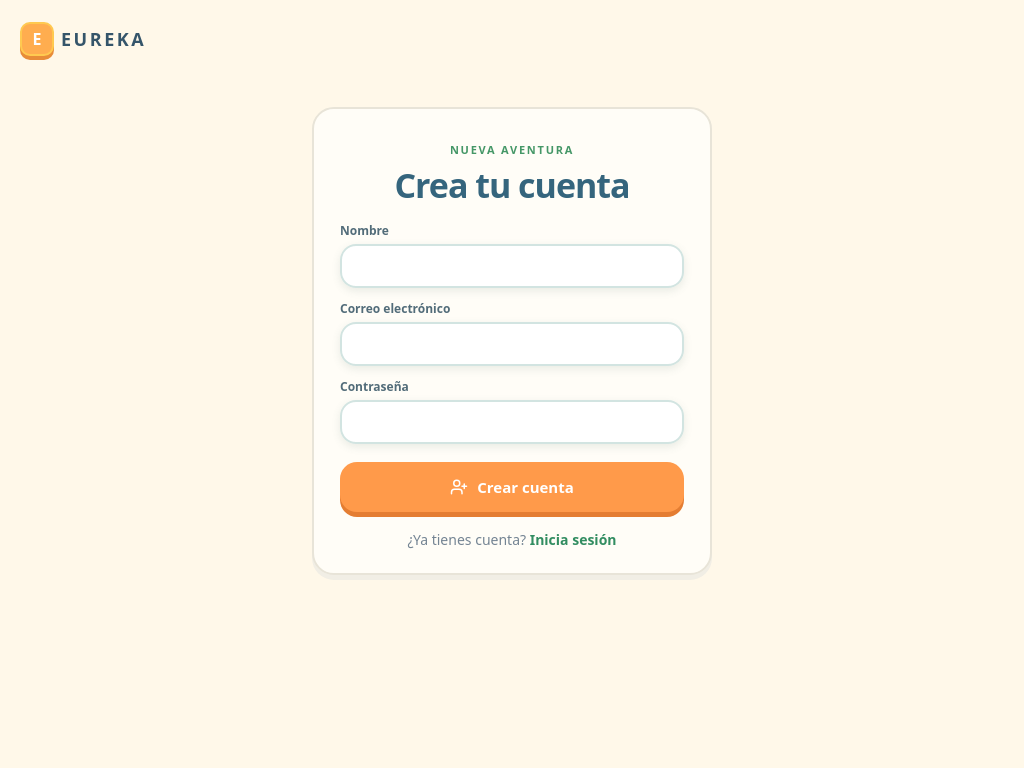
Test case: registro › crea la cuenta, inicia sesión, guarda el token y entra al inicio
In the field labelled "Nombre": (512, 266) [340,244,684,288], type "Ana"
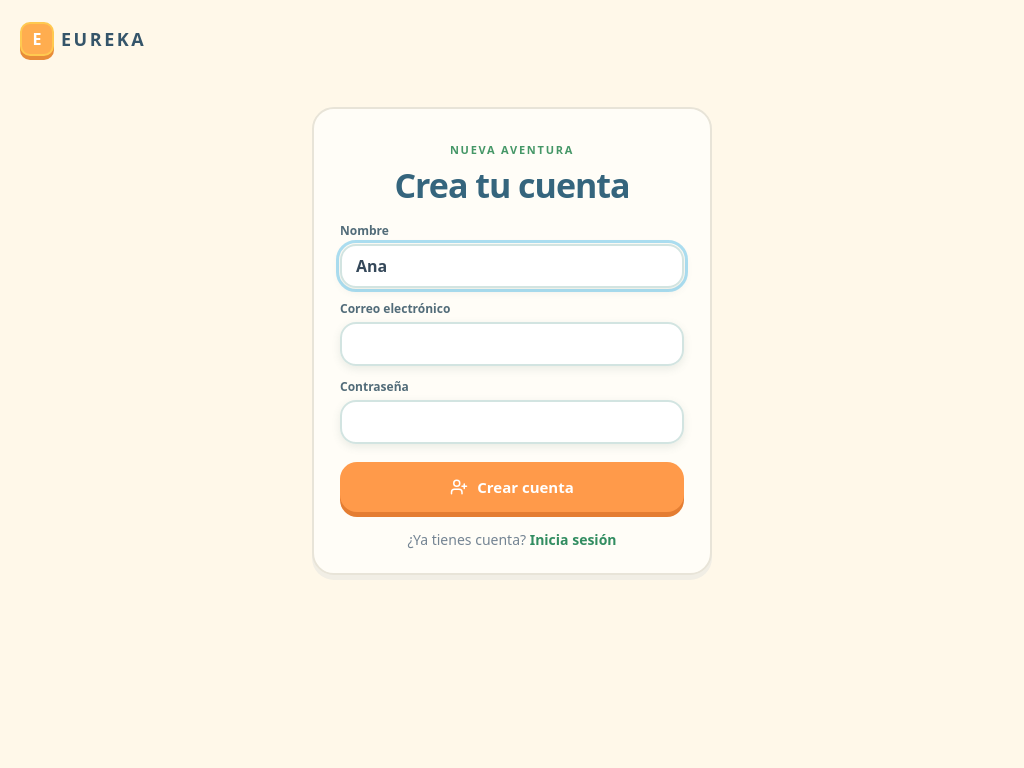
In the field labelled "Correo electrónico": (512, 344) [340,322,684,366], type "ana@example.com"
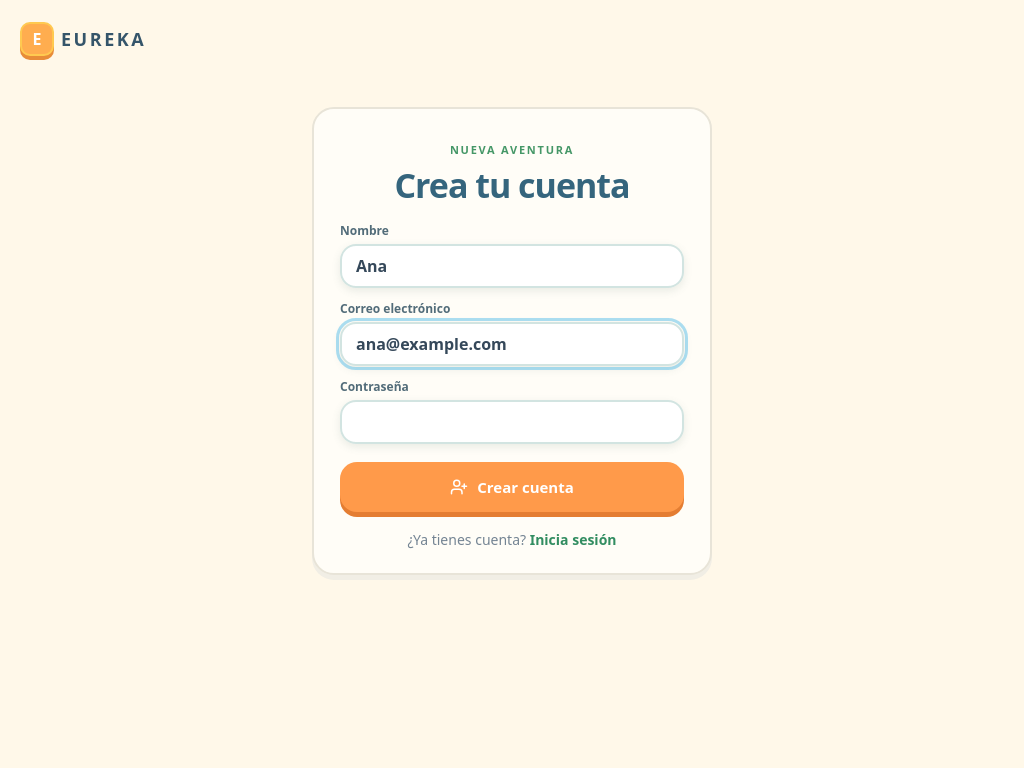
In the password field labelled "Contraseña": (512, 422) [340,400,684,444], type "correct-horse-battery"
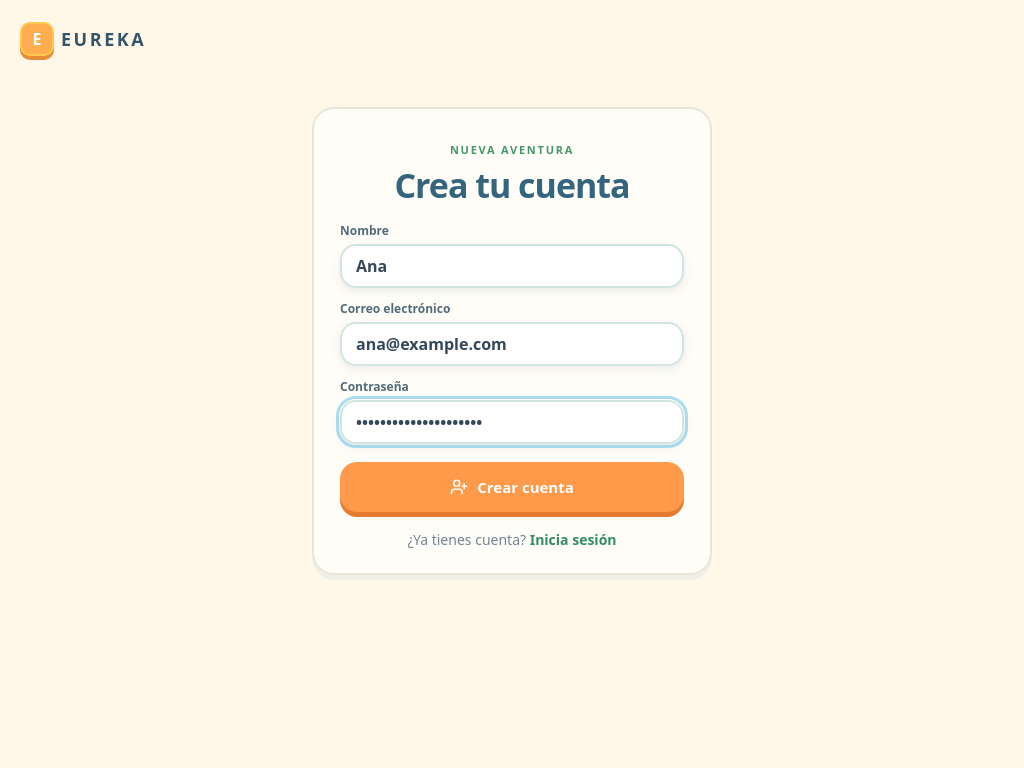
Click the button "Crear cuenta": (512, 487) [340,462,684,512]
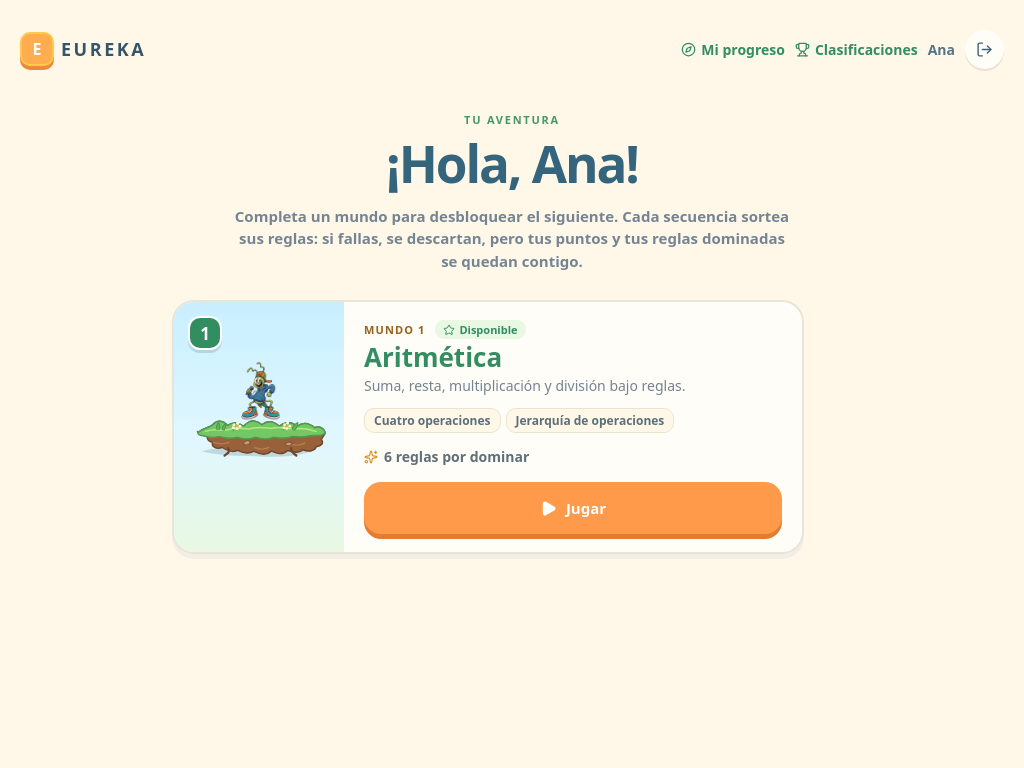
Now the heading "¡Hola, Ana!" is shown, box [386,137,638,191]
